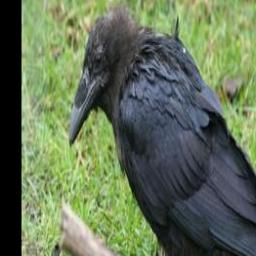Crow: (67, 1, 256, 256)
